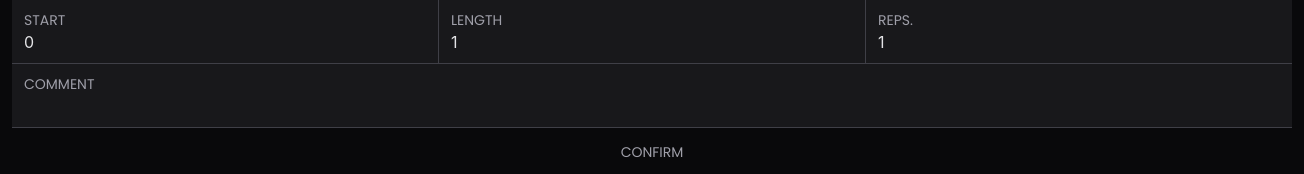
Pattern form › When I'm setting a pattern length by typing a value, the app prevents me from setting it longer than the song
Type "11" into the number field labelled "length" at (652, 42), box x1=451 y1=30 x2=853 y2=54
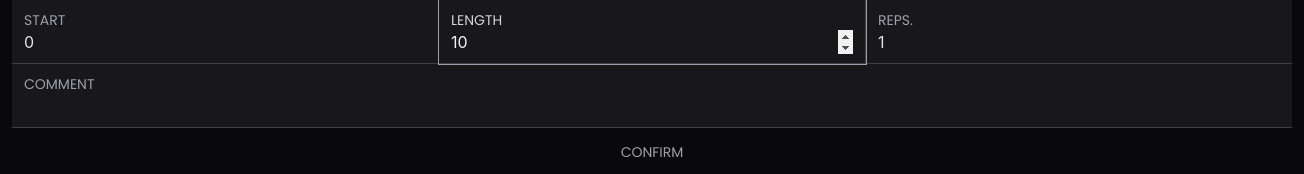
Check: the number field labelled "length" holds "10", box x1=451 y1=30 x2=853 y2=54
